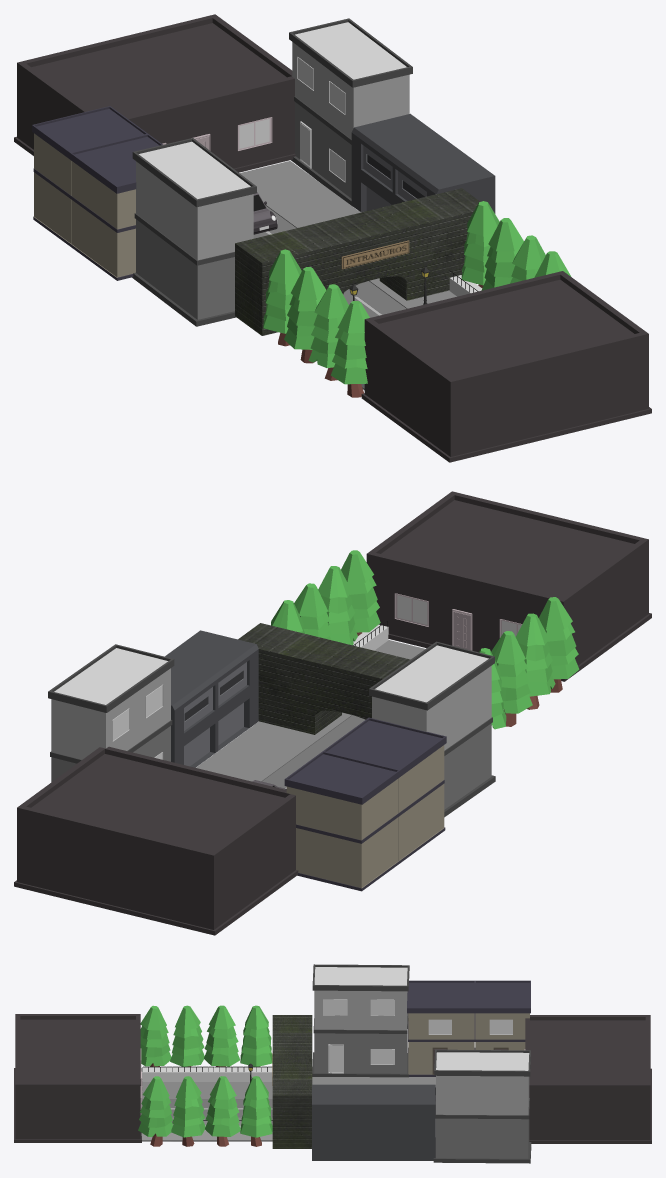
Rendered from Intramuros.fbx.
3 views of the same model, one above another, from view 1: azimuth 30°, elevation 25°; view 2: azimuth 150°, elevation 25°; view 3: azimuth 270°, elevation 25° (orthographic). The views are drawn at different scales.
Parts seen in each view (by area): view 1: Cube.017, Cube.078, Cube.074, Cube, Cube.013, Cube.073, Cube.077, Cube.014, Cube.002, Tree.003, Tree.001, Tree (+6 smaller); view 2: Cube.078, Cube.017, Cube.014, Cube.074, Cube.013, Cube, Cube.073, Cube.077, Cube.002, Tree.001, Tree.003, Tree.002 (+7 smaller); view 3: Cube.017, Cube.078, Cube.013, Cube.073, Cube.074, Cube, Cube.077, Cube.014, Cube.002, Cube.003, Tree.005, Tree.007 (+14 smaller).
Part boxes in pixels (x1,y1,x2,y2): Cube.017: (361, 271, 651, 462); Cube.078: (14, 14, 295, 172); Cube.074: (132, 138, 256, 326); Cube: (235, 188, 480, 335); Cube.013: (289, 18, 412, 206); Cube.073: (351, 113, 495, 213); Cube.077: (70, 133, 162, 280); Cube.014: (32, 106, 147, 246); Cube.002: (239, 161, 456, 390); Tree.003: (331, 301, 369, 397); Tree.001: (284, 267, 326, 363); Tree: (263, 249, 301, 346); Cube.078: (14, 746, 298, 935); Cube.017: (366, 491, 651, 681); Cube.014: (284, 751, 400, 891); Cube.074: (369, 641, 495, 817); Cube.013: (48, 644, 174, 782); Cube: (238, 623, 410, 734); Cube.073: (165, 630, 258, 767); Cube.077: (322, 717, 446, 863); Cube.002: (196, 640, 425, 788); Tree.001: (491, 631, 532, 726); Tree.003: (538, 597, 579, 692); Tree.002: (515, 613, 555, 709); Cube.017: (14, 1014, 141, 1142); Cube.078: (525, 1015, 651, 1143); Cube.013: (433, 1049, 531, 1163); Cube.073: (312, 1084, 435, 1160); Cube.074: (312, 964, 409, 1077); Cube: (272, 1015, 312, 1148); Cube.077: (407, 980, 475, 1076); Cube.014: (474, 980, 530, 1050); Cube.002: (142, 1077, 435, 1141); Cube.003: (141, 1067, 272, 1081); Tree.005: (205, 1076, 240, 1146); Tree.007: (138, 1076, 172, 1146).
Size of the model in its own units: 6694 by 2548 by 15998.
